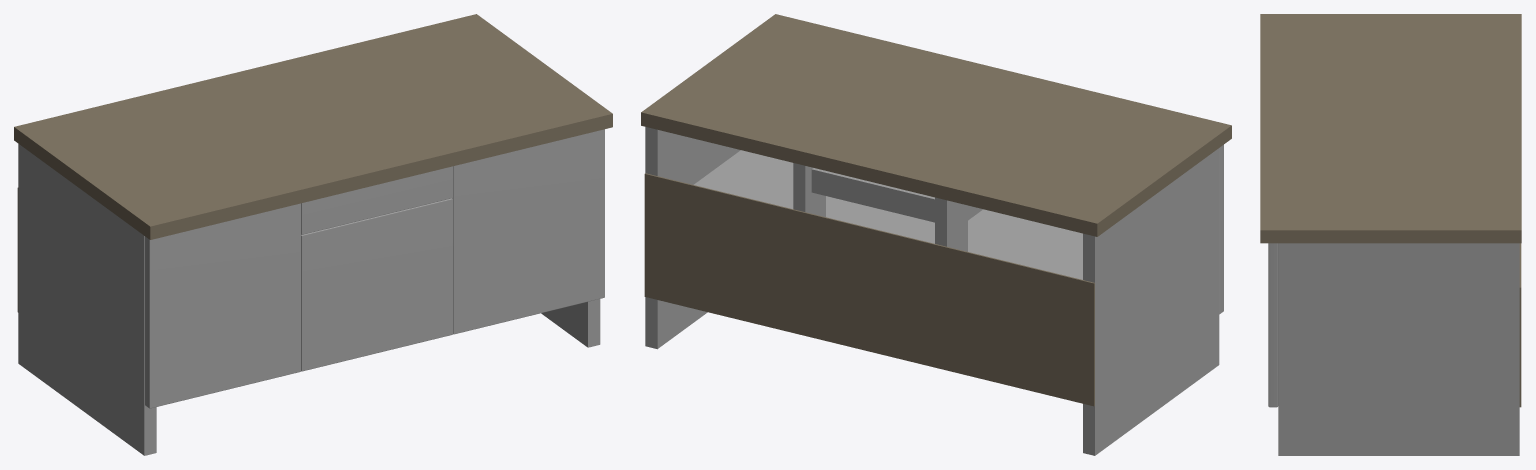
The model's file is prp_Cabinet_01_Color.fbx.
3 views of the same model, side by side, from view 1: azimuth 30°, elevation 25°; view 2: azimuth 150°, elevation 25°; view 3: azimuth 270°, elevation 25° (orthographic). The views are drawn at different scales.
Visible parts, largest first — view 1: SM_Cabinet_01_Top, SM_Cabinet_01_Side_01, SM_Cabinet_01_Door_01, SM_Cabinet_01_Door_02, SM_Cabinet_01_Door_03, SM_Cabinet_01_Drawer_01, SM_Cabinet_01_Side_02; view 2: SM_Cabinet_01_Top, SM_Cabinet_01_Back, SM_Cabinet_01_Side_01, SM_Cabinet_01_Shelf_01, SM_Cabinet_01_Side_02, SM_Cabinet_01_Drawer_01, SM_Cabinet_01_Dividers_01, SM_Cabinet_01_Door_01; view 3: SM_Cabinet_01_Top, SM_Cabinet_01_Side_02, SM_Cabinet_01_Door_02, SM_Cabinet_01_Back.
Part boxes in pixels (box(x1,y1,x2,y2)): SM_Cabinet_01_Top: box(14, 14, 612, 239); SM_Cabinet_01_Side_01: box(18, 144, 156, 455); SM_Cabinet_01_Door_01: box(145, 203, 300, 408); SM_Cabinet_01_Door_02: box(452, 129, 604, 334); SM_Cabinet_01_Door_03: box(301, 198, 452, 371); SM_Cabinet_01_Drawer_01: box(301, 166, 452, 234); SM_Cabinet_01_Side_02: box(541, 299, 600, 347); SM_Cabinet_01_Top: box(641, 14, 1231, 236); SM_Cabinet_01_Back: box(644, 173, 1094, 406); SM_Cabinet_01_Side_01: box(1083, 148, 1219, 455); SM_Cabinet_01_Shelf_01: box(694, 150, 1082, 279); SM_Cabinet_01_Side_02: box(645, 127, 740, 349); SM_Cabinet_01_Drawer_01: box(811, 168, 934, 222); SM_Cabinet_01_Dividers_01: box(793, 163, 982, 251); SM_Cabinet_01_Door_01: box(1219, 145, 1223, 314); SM_Cabinet_01_Top: box(1260, 14, 1521, 243); SM_Cabinet_01_Side_02: box(1278, 243, 1519, 455); SM_Cabinet_01_Door_02: box(1268, 243, 1278, 407); SM_Cabinet_01_Back: box(1519, 243, 1521, 407).
Size of the model in its own units: 184 by 90.2 by 94.01.
